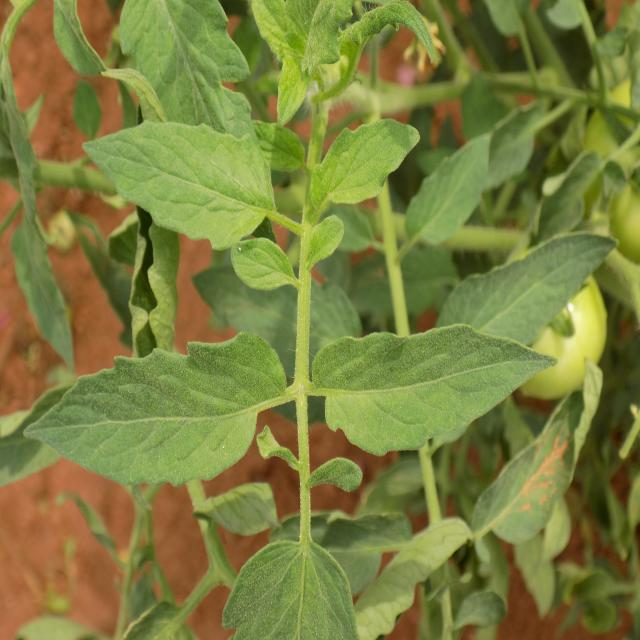tomato_healthy: (23, 338, 296, 485), (404, 229, 615, 400), (308, 320, 562, 455), (192, 267, 394, 397), (80, 116, 269, 252), (402, 111, 501, 248), (312, 115, 416, 206)
